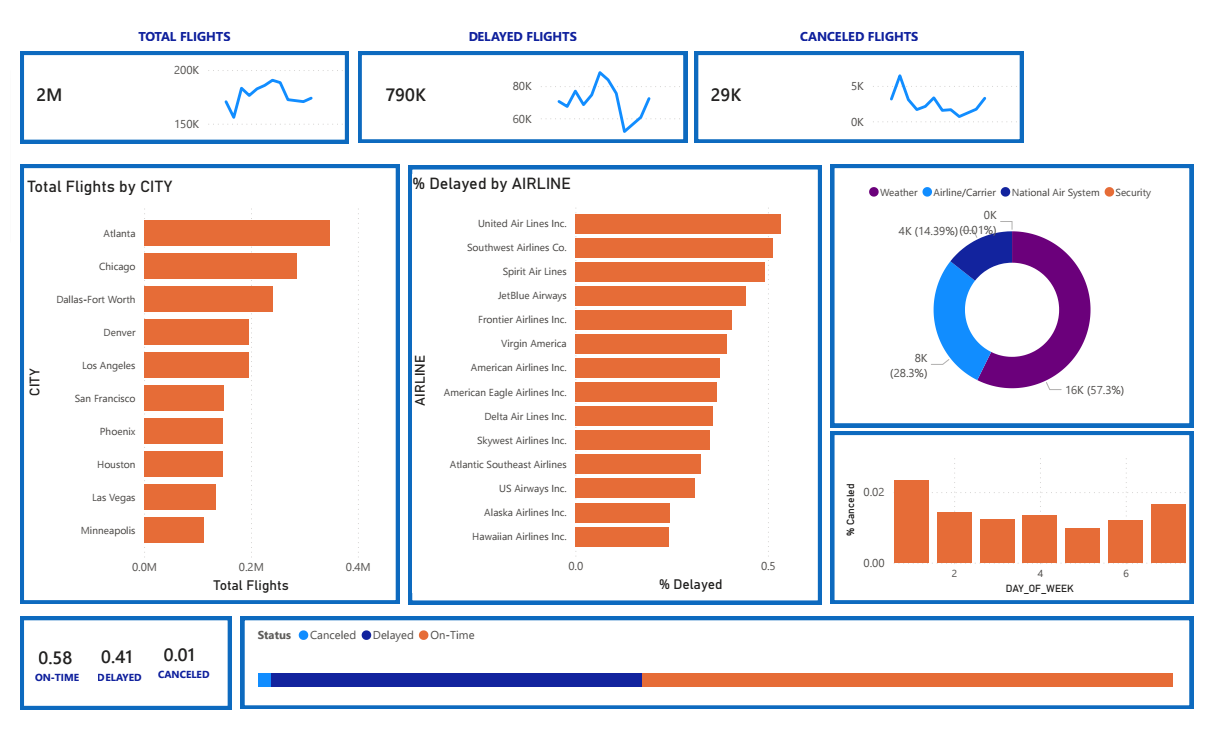

The page's visual inventory and layout, read from the dashboard file:
{"tool":"powerbi","page":{"name":"Flight Status Dashboard","canvas":[1280,720],"ordinal":0},"visuals":[{"type":"shape","box":[10,30,344.4,96.7],"z":0},{"type":"textbox","box":[10,0,344.4,30],"z":1000},{"type":"cardVisual","fields":{"Data":["flights.Total Flights"]},"box":[10,30,156.7,87.8],"z":2000},{"type":"lineChart","fields":{"Category":["flights.MONTH"],"Y":["flights.Total Flights"]},"box":[166.2,35,188.8,87.5],"z":3000},{"type":"shape","box":[365,30,345,96.2],"z":4000},{"type":"textbox","box":[365,0,345,30],"z":5000},{"type":"cardVisual","fields":{"Data":["flights.Delayed Flights"]},"box":[365,30,156.2,87.5],"z":6000},{"type":"lineChart","fields":{"Category":["flights.MONTH"],"Y":["flights.Delayed Flights"]},"box":[521.2,35,188.8,87.5],"z":7000},{"type":"shape","box":[717.5,30,345,96.2],"z":8000},{"type":"textbox","box":[717.8,0,345.6,30],"z":9000},{"type":"cardVisual","fields":{"Data":["flights.Canceled Flights"]},"box":[717.5,30,157.5,87.5],"z":10000},{"type":"lineChart","fields":{"Category":["flights.MONTH"],"Y":["flights.Canceled Flights"]},"box":[875,30,187.5,87.5],"z":11000},{"type":"shape","box":[10,622.3,221.5,97.7],"z":12000},{"type":"cardVisual","fields":{"Data":["flights.% On-Time"]},"box":[17.8,632.2,63.3,62.2],"z":13000},{"type":"cardVisual","fields":{"Data":["flights.% Delayed"]},"box":[82.8,631.5,63.8,62.3],"z":14000},{"type":"cardVisual","fields":{"Data":["flights.% Canceled"]},"box":[149.2,629.7,63.1,62.3],"z":15000},{"type":"textbox","box":[17.7,670.8,63.1,35.4],"z":16000},{"type":"textbox","box":[82.8,670.8,63.1,35.4],"z":17000},{"type":"textbox","box":[143.8,668.9,74.6,35.4],"z":18000},{"type":"shape","box":[10,148.9,397.8,461.1],"z":19000},{"type":"clusteredBarChart","fields":{"Category":["airports.CITY"],"Y":["flights.Total Flights"]},"box":[17,161,361,437],"z":20000},{"type":"shape","box":[416.7,150,433.3,460],"z":21000},{"type":"clusteredBarChart","fields":{"Category":["airlines.AIRLINE"],"Y":["flights.% Delayed"]},"box":[421.1,158.9,421.1,438.9],"z":22000},{"type":"shape","box":[860,148.9,380,275.6],"z":23000},{"type":"donutChart","fields":{"Category":["cancellation_codes.CANCELLATION_DESCRIPTION"],"Y":["flights.Canceled Flights"]},"box":[875.6,158.9,348.9,257.8],"z":24000},{"type":"shape","box":[860,428.9,380,181.1],"z":25000},{"type":"clusteredColumnChart","fields":{"Category":["flights.DAY_OF_WEEK"],"Y":["flights.% Canceled"]},"box":[875.6,441.1,356.7,157.8],"z":26000},{"type":"shape","box":[241.4,622.9,998.6,97.1],"z":27000},{"type":"hundredPercentStackedBarChart","fields":{"Y":["flights.Total Flights"],"Series":["flights.Status"]},"box":[254.3,622.9,970,97.1],"z":28000}]}

Visuals, with their boxes in screenshot pixels (x1, y1, x2, y2):
shape: rect(19, 53, 342, 144)
textbox: rect(19, 25, 342, 53)
cardVisual - flights.Total Flights: rect(19, 53, 166, 136)
lineChart - flights.MONTH x flights.Total Flights: rect(165, 58, 342, 140)
shape: rect(352, 53, 675, 144)
textbox: rect(352, 25, 675, 53)
cardVisual - flights.Delayed Flights: rect(352, 53, 498, 136)
lineChart - flights.MONTH x flights.Delayed Flights: rect(498, 58, 675, 140)
shape: rect(682, 53, 1006, 144)
textbox: rect(683, 25, 1007, 53)
cardVisual - flights.Canceled Flights: rect(682, 53, 830, 136)
lineChart - flights.MONTH x flights.Canceled Flights: rect(830, 53, 1006, 136)
shape: rect(19, 609, 227, 700)
cardVisual - flights.% On-Time: rect(26, 618, 86, 676)
cardVisual - flights.% Delayed: rect(87, 617, 147, 676)
cardVisual - flights.% Canceled: rect(149, 616, 209, 674)
textbox: rect(26, 654, 85, 688)
textbox: rect(87, 654, 146, 688)
textbox: rect(144, 653, 214, 686)
shape: rect(19, 165, 392, 597)
clusteredBarChart - airports.CITY x flights.Total Flights: rect(25, 176, 364, 586)
shape: rect(400, 166, 807, 597)
clusteredBarChart - airlines.AIRLINE x flights.% Delayed: rect(404, 174, 799, 586)
shape: rect(816, 165, 1172, 423)
donutChart - cancellation_codes.CANCELLATION_DESCRIPTION x flights.Canceled Flights: rect(831, 174, 1158, 416)
shape: rect(816, 428, 1172, 597)
clusteredColumnChart - flights.DAY_OF_WEEK x flights.% Canceled: rect(831, 439, 1165, 587)
shape: rect(236, 609, 1172, 700)
hundredPercentStackedBarChart - flights.Total Flights x flights.Status: rect(248, 609, 1157, 700)
